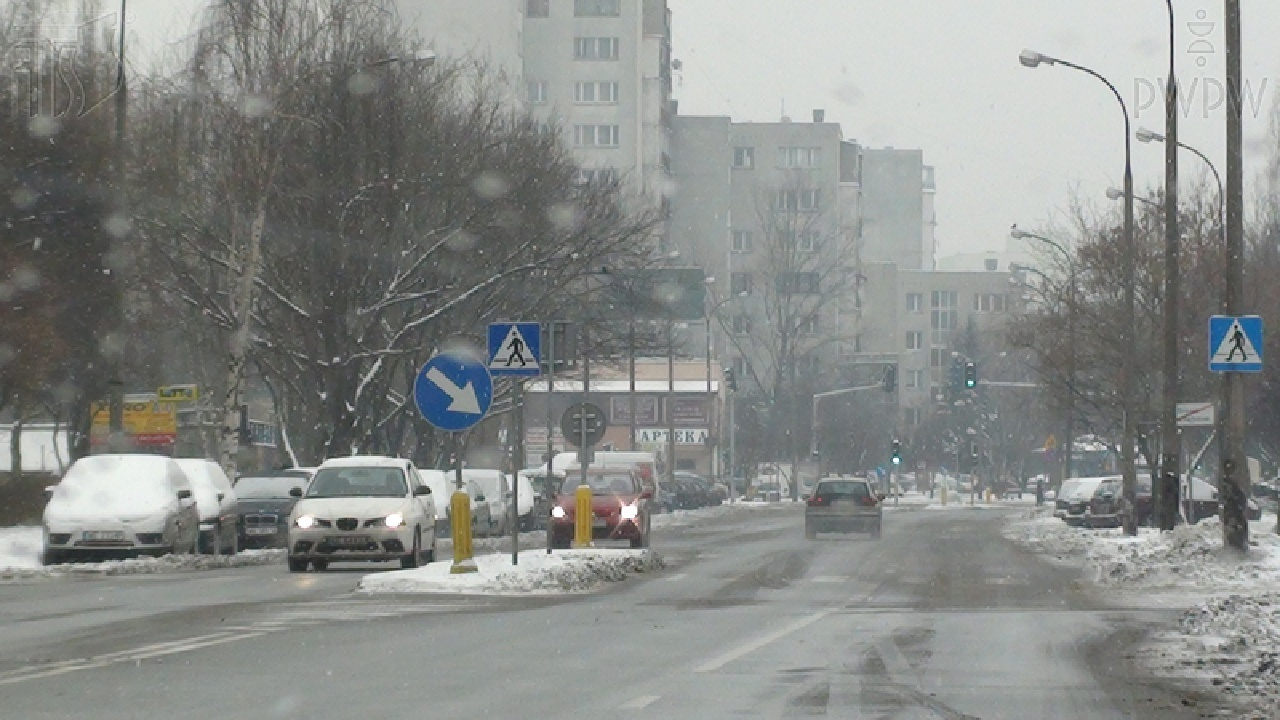C9: (413, 351, 492, 431)
D6: (1209, 316, 1264, 373), (489, 322, 540, 376)
